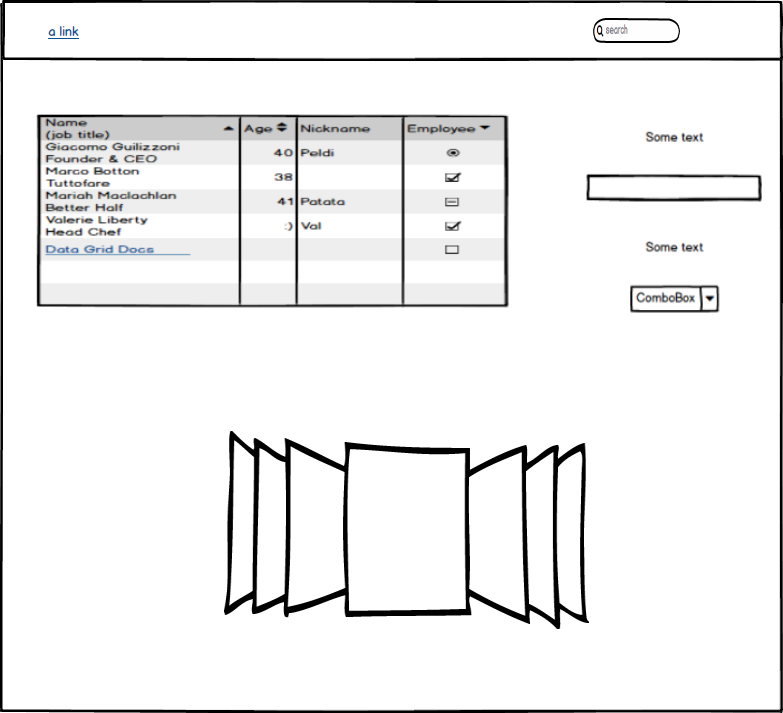input: (579, 169, 770, 207)
label: (637, 124, 714, 148), (642, 235, 708, 258)
navlink: (43, 20, 85, 42)
search: (587, 11, 683, 47)
select_box: (622, 281, 727, 319)
slideshow: (218, 428, 598, 634)
table: (30, 110, 517, 312)
